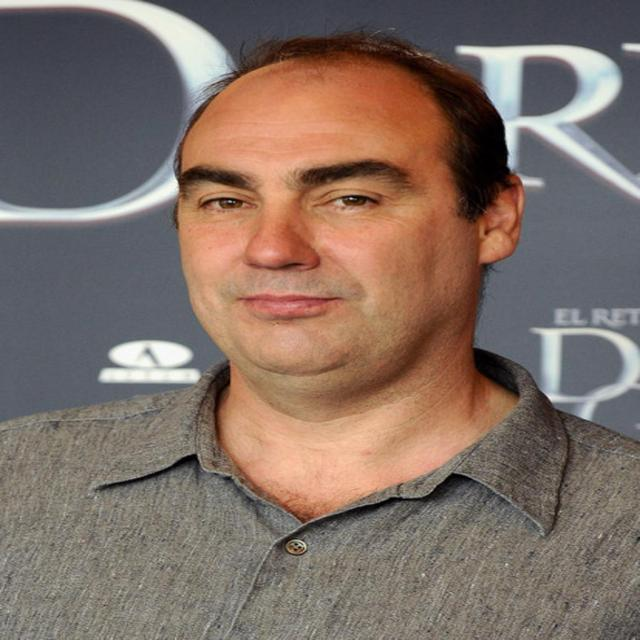Face: (183, 70, 484, 412)
